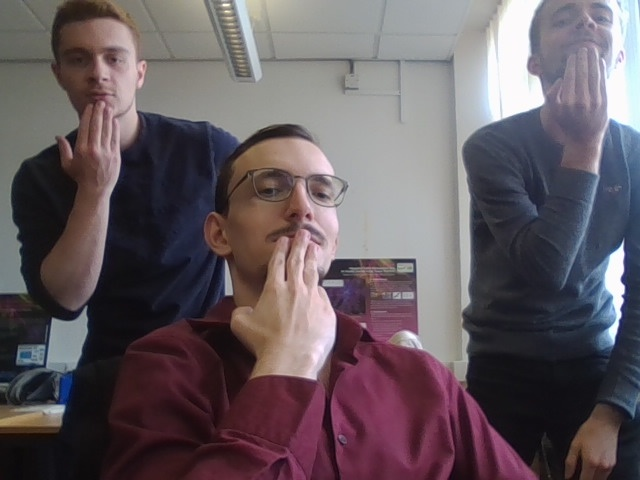livelong: (227, 229, 337, 357), (54, 99, 131, 188), (546, 44, 612, 137)
